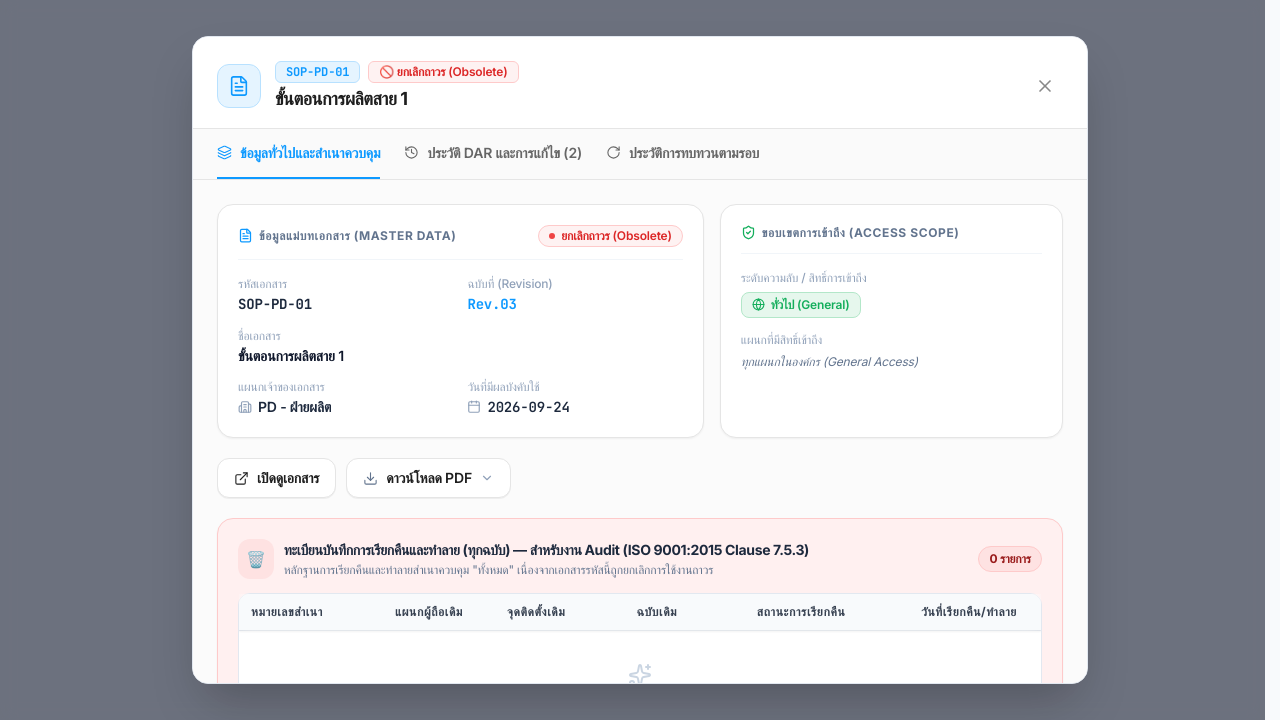
Test: Cumulative DAR History Lineage (Audit Trail <= Current Revision) Tests › 3. Obsolete DAR Revision Binding & Redesigned Timeline Badge UX › correctly resolves revision to Rev.03 and displays audit-compliant badges
Click the button "ประวัติ DAR และการแก้ไข (2)" at (493, 154), box top-left (404, 129), bottom-right (582, 179)
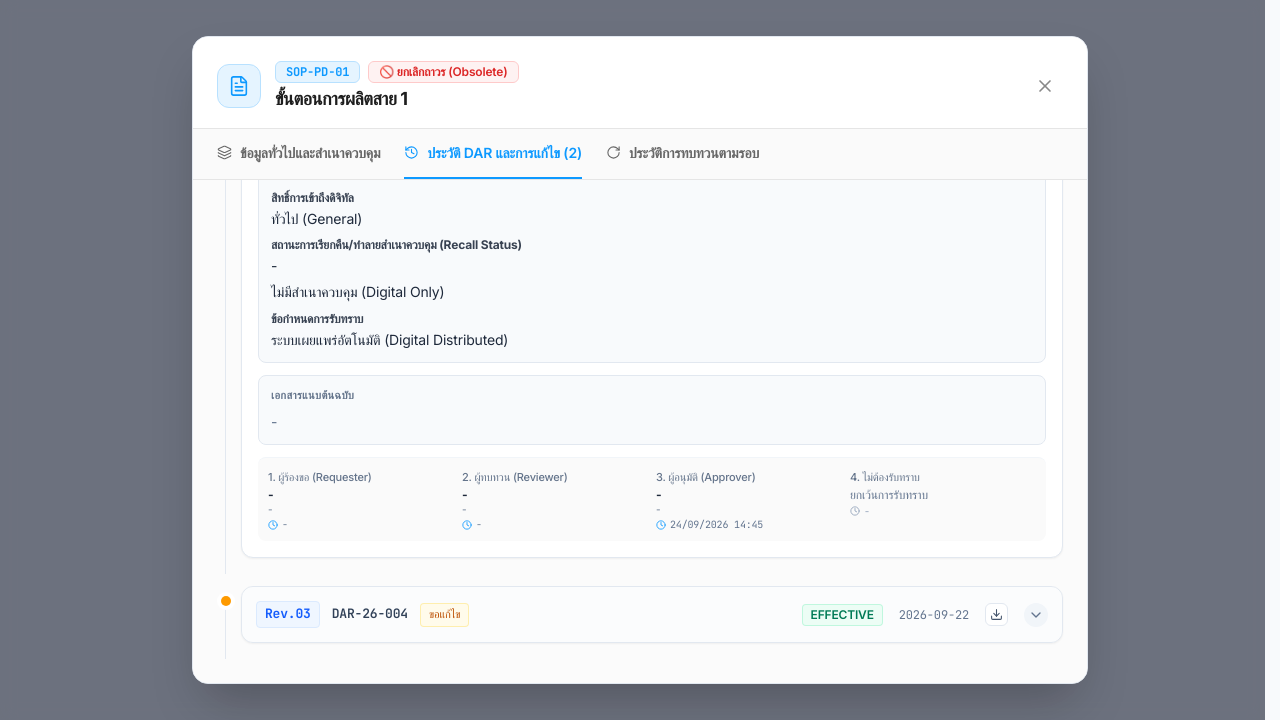
Expected: the text "DAR-26-004" is shown, top-left (332, 604), bottom-right (408, 625)
Expected: the text "ขอแก้ไข" is shown, top-left (420, 603), bottom-right (469, 627)
